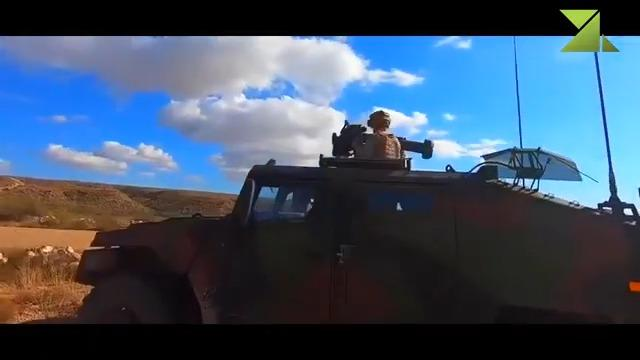MIL_HMMWV: (73, 157, 640, 324), (352, 111, 403, 161)
